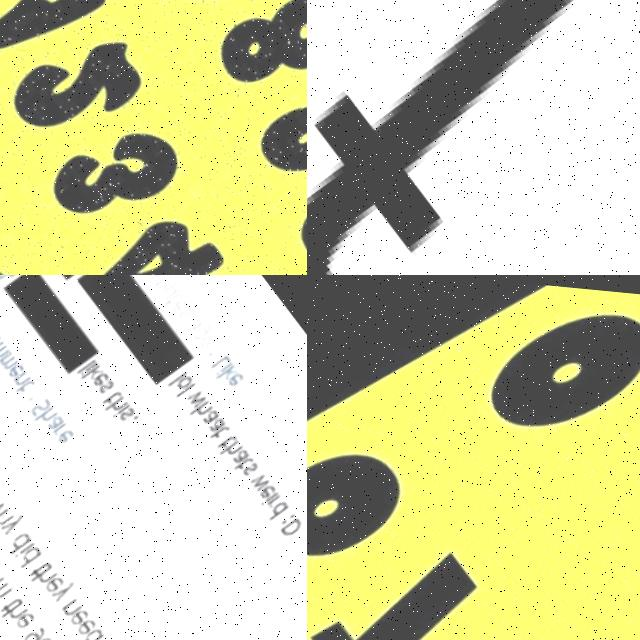0: (456, 275, 640, 485), (236, 100, 307, 275)
1: (0, 0, 126, 97)
2: (0, 0, 170, 182)
3: (15, 69, 210, 269)
4: (32, 139, 262, 275)
5: (19, 618, 45, 640)
6: (307, 407, 426, 638)
7: (307, 504, 514, 640)
8: (169, 0, 307, 139)
9: (217, 19, 307, 222)
A: (199, 397, 222, 421), (204, 406, 227, 428), (229, 437, 251, 459), (182, 307, 204, 328), (43, 408, 64, 429), (92, 632, 117, 640)
D: (2, 524, 33, 554), (14, 539, 42, 566), (263, 488, 288, 513), (278, 507, 303, 530), (75, 620, 103, 640)
E: (11, 603, 36, 629), (42, 567, 67, 592), (73, 609, 97, 634), (66, 600, 90, 624), (168, 286, 191, 310), (54, 421, 75, 443), (5, 356, 25, 376), (89, 364, 109, 384), (225, 361, 245, 381), (256, 473, 275, 492)
F: (307, 0, 640, 275)
G: (189, 311, 215, 337)
H: (28, 558, 58, 587), (0, 596, 27, 623), (101, 386, 128, 413), (32, 400, 58, 426), (187, 390, 213, 416), (218, 428, 244, 454), (0, 503, 13, 530)
I: (13, 535, 35, 556), (79, 354, 99, 373), (213, 352, 233, 370), (110, 396, 129, 414), (259, 481, 278, 498), (147, 275, 165, 281)
K: (79, 357, 102, 380), (215, 355, 238, 378)
L: (209, 344, 232, 367), (165, 360, 189, 382), (174, 374, 195, 392), (75, 352, 94, 370)
M: (0, 346, 18, 369), (0, 569, 12, 597), (0, 335, 11, 357)
N: (59, 591, 82, 614), (11, 364, 31, 384), (153, 275, 172, 286)
O: (172, 364, 194, 386), (195, 322, 217, 343)
R: (49, 415, 68, 435), (264, 483, 281, 500)
S: (26, 390, 52, 416), (96, 370, 117, 392), (240, 450, 260, 470), (175, 296, 194, 316), (116, 399, 135, 418)
T: (26, 552, 50, 576), (13, 371, 36, 394), (100, 380, 123, 403), (232, 444, 255, 467), (160, 281, 183, 304), (207, 413, 231, 435), (0, 588, 21, 613), (214, 424, 237, 444)
U: (159, 276, 178, 295)
W: (248, 461, 271, 484), (184, 380, 206, 403), (0, 487, 6, 515)
Y: (0, 505, 27, 534), (48, 573, 77, 600)
